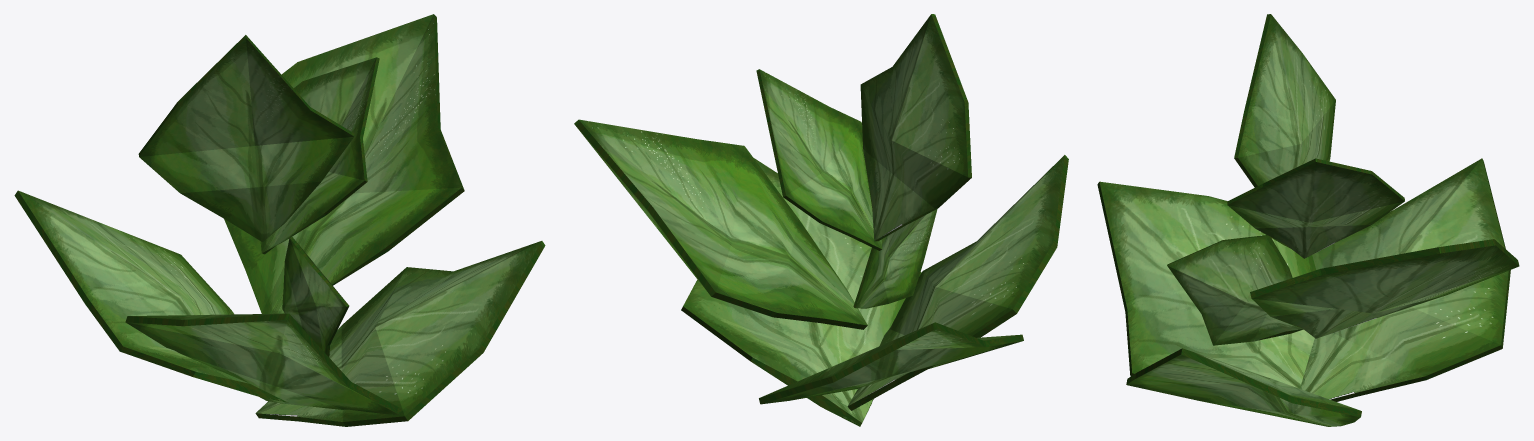
File: matera1.glb
3 renders of one model, left to right at view 1: azimuth 30°, elevation 25°; view 2: azimuth 150°, elevation 25°; view 3: azimuth 270°, elevation 25°, orthographic. The views are drawn at different scales.
Visible parts, largest first — view 1: hoja, hoja 2, hoja.003, hoja.002, hoja.005, hoja.001, hoja.004; view 2: hoja, hoja 2, hoja.005, hoja.003, hoja.001, hoja.002, hoja.004; view 3: hoja.002, hoja.005, hoja, hoja 2, hoja.001, hoja.004, hoja.003.
Part boxes in pixels (<box>): hoja: <box>224,14,464,313</box>; hoja 2: <box>138,35,354,242</box>; hoja.003: <box>255,241,545,426</box>; hoja.002: <box>14,190,288,402</box>; hoja.005: <box>125,313,401,414</box>; hoja.001: <box>260,57,379,254</box>; hoja.004: <box>282,237,349,357</box>; hoja: <box>574,119,867,329</box>; hoja 2: <box>860,14,971,241</box>; hoja.005: <box>847,155,1068,410</box>; hoja.003: <box>681,158,921,426</box>; hoja.001: <box>756,69,882,250</box>; hoja.002: <box>759,322,1023,404</box>; hoja.004: <box>853,209,937,308</box>; hoja.002: <box>1300,158,1510,401</box>; hoja.005: <box>1097,181,1315,388</box>; hoja: <box>1250,239,1519,338</box>; hoja 2: <box>1234,14,1335,187</box>; hoja.001: <box>1227,158,1404,258</box>; hoja.004: <box>1167,235,1303,345</box>; hoja.003: <box>1126,348,1361,426</box>.
Size of the model in its own units: 2.42 by 2.41 by 2.35.
Materials: 1 (1 with a texture image).
